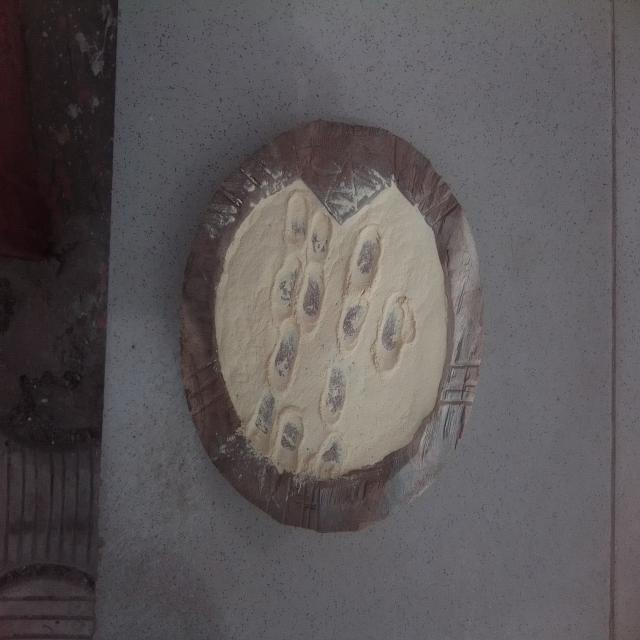double: (336, 294, 420, 358), (238, 402, 308, 466), (270, 262, 326, 322), (280, 198, 332, 258)
single: (346, 226, 384, 290), (320, 357, 350, 428), (272, 330, 302, 390), (308, 434, 346, 480)
